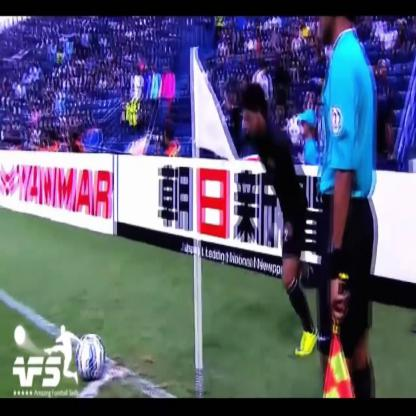corner kick: (22, 62, 296, 369)
